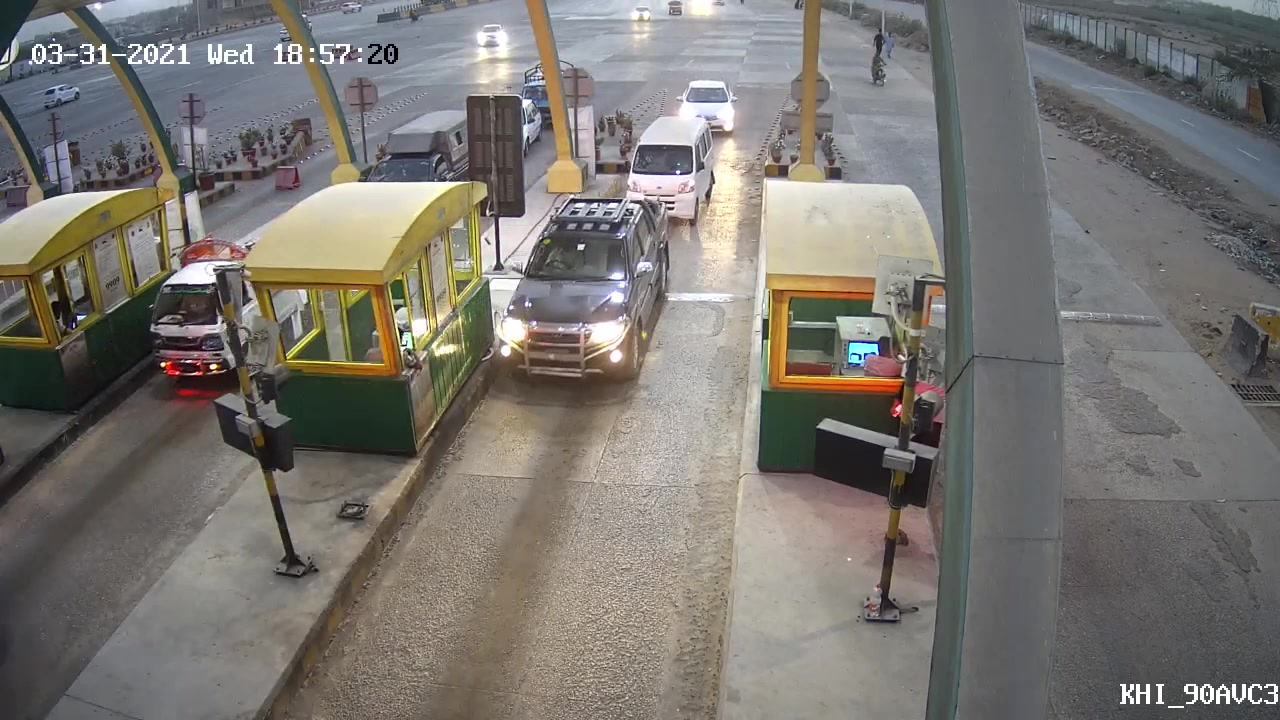F1: (490, 195, 667, 390)
